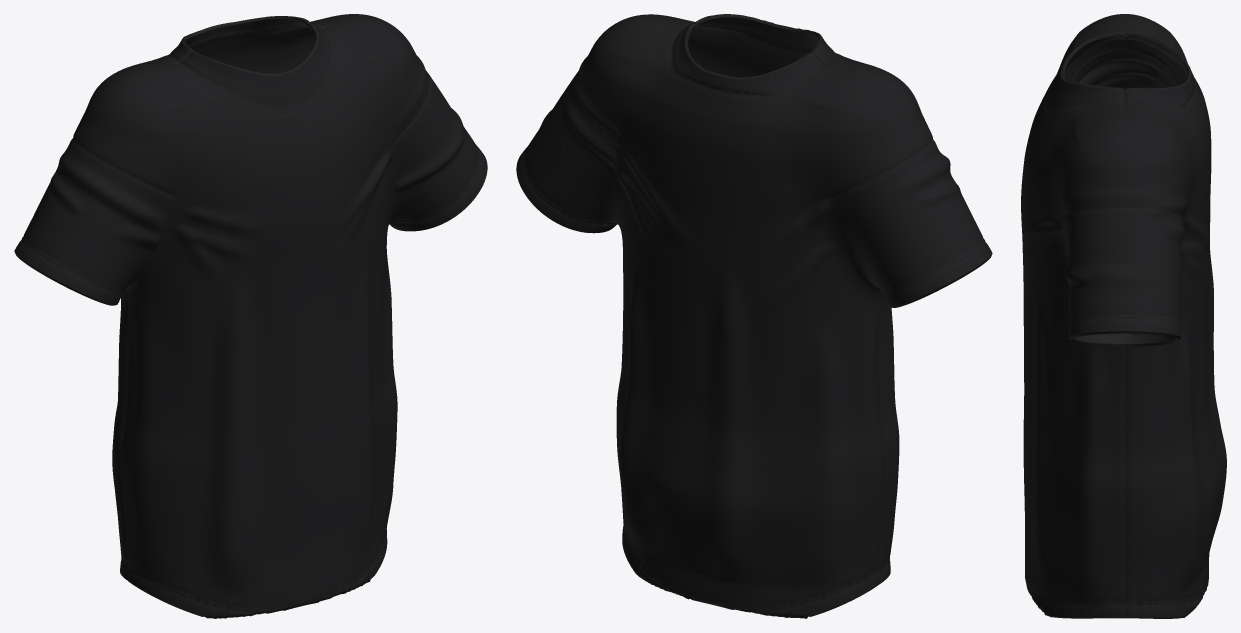
The model's file is 06_camiseta_longline_pbr.glb.
3 renders of one model, left to right at view 1: azimuth 30°, elevation 25°; view 2: azimuth 150°, elevation 25°; view 3: azimuth 270°, elevation 25°, orthographic. The views are drawn at different scales.
Parts seen in each view (by area): view 1: Camiseta PBR; view 2: Camiseta PBR; view 3: Camiseta PBR.
Boxes of the visible parts, left/top/right/bottom form: Camiseta PBR: left=14, top=14, right=487, bottom=618; Camiseta PBR: left=516, top=14, right=992, bottom=618; Camiseta PBR: left=1021, top=14, right=1226, bottom=618.
Bounding box in the file's own units: 0.7198 × 0.8089 × 0.2908.
Materials: 1 (1 with a texture image).
